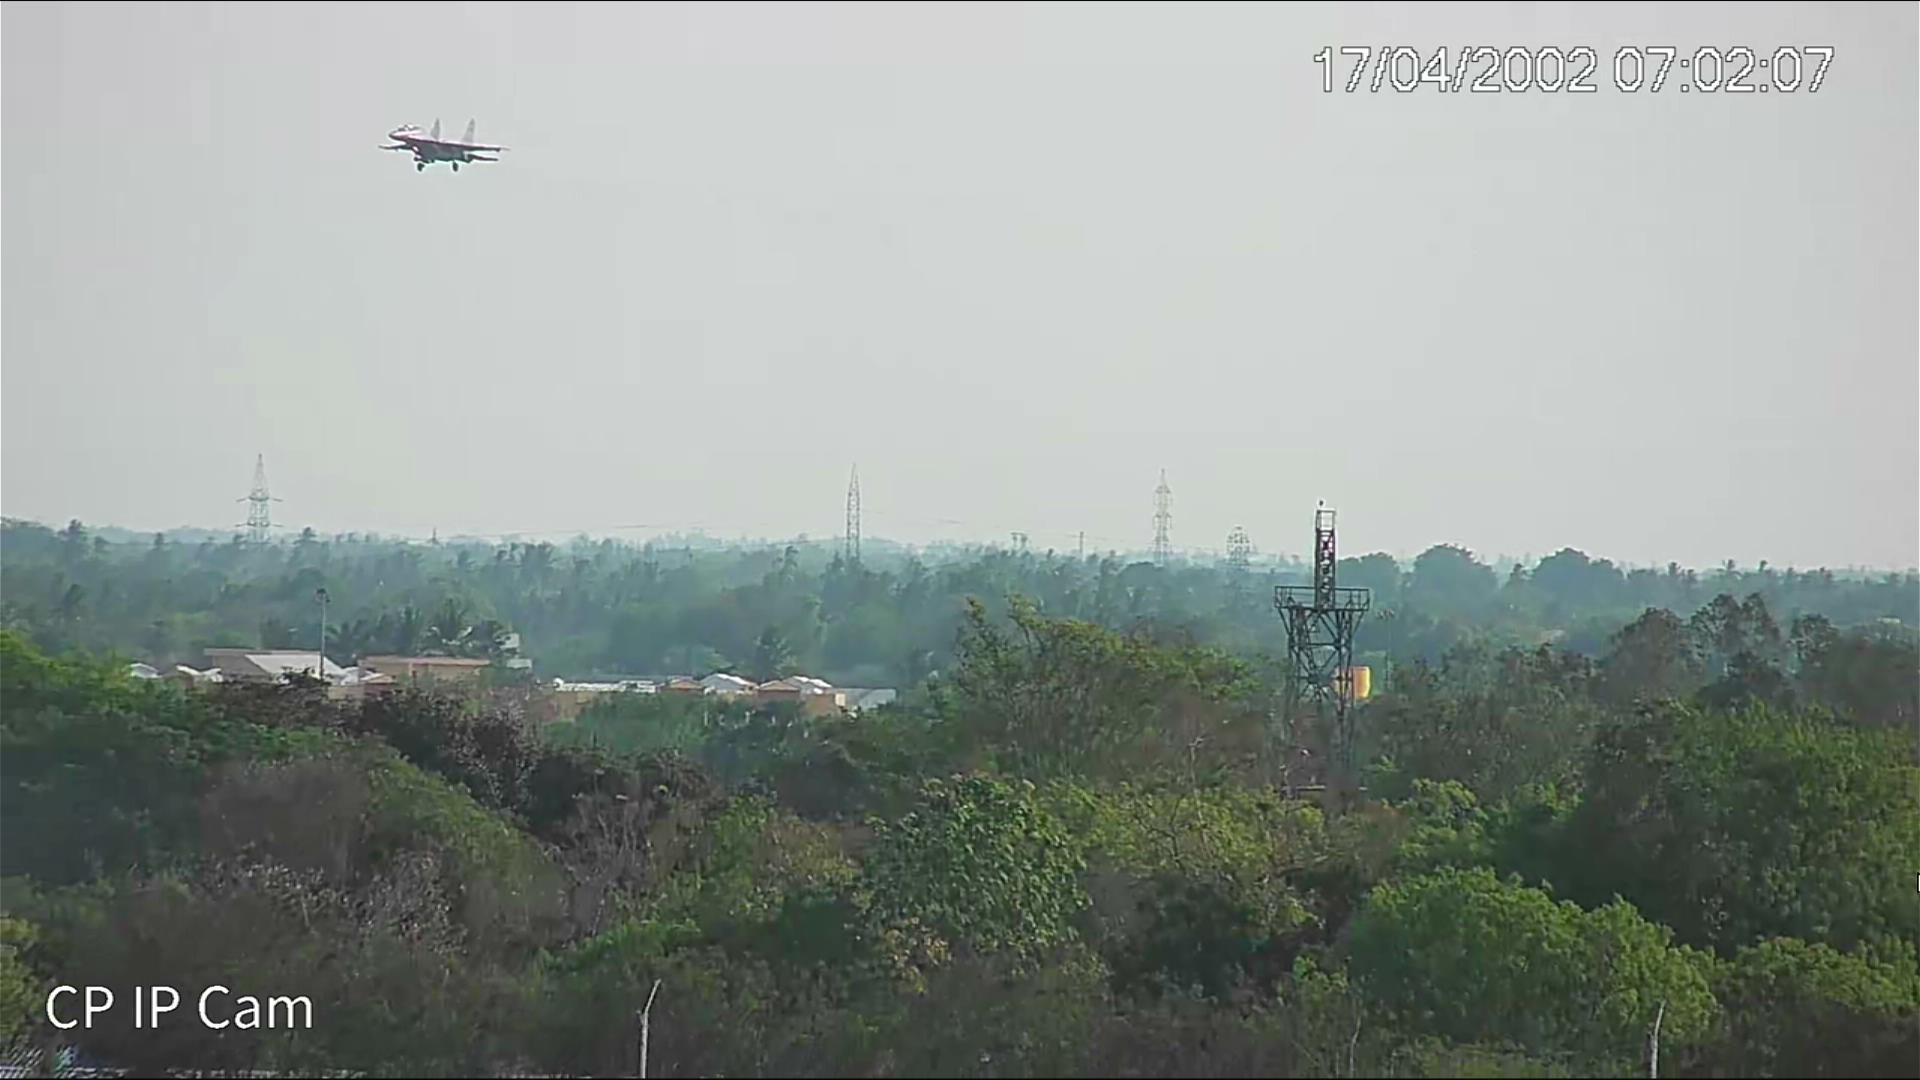SU_30: (375, 121, 512, 175)
